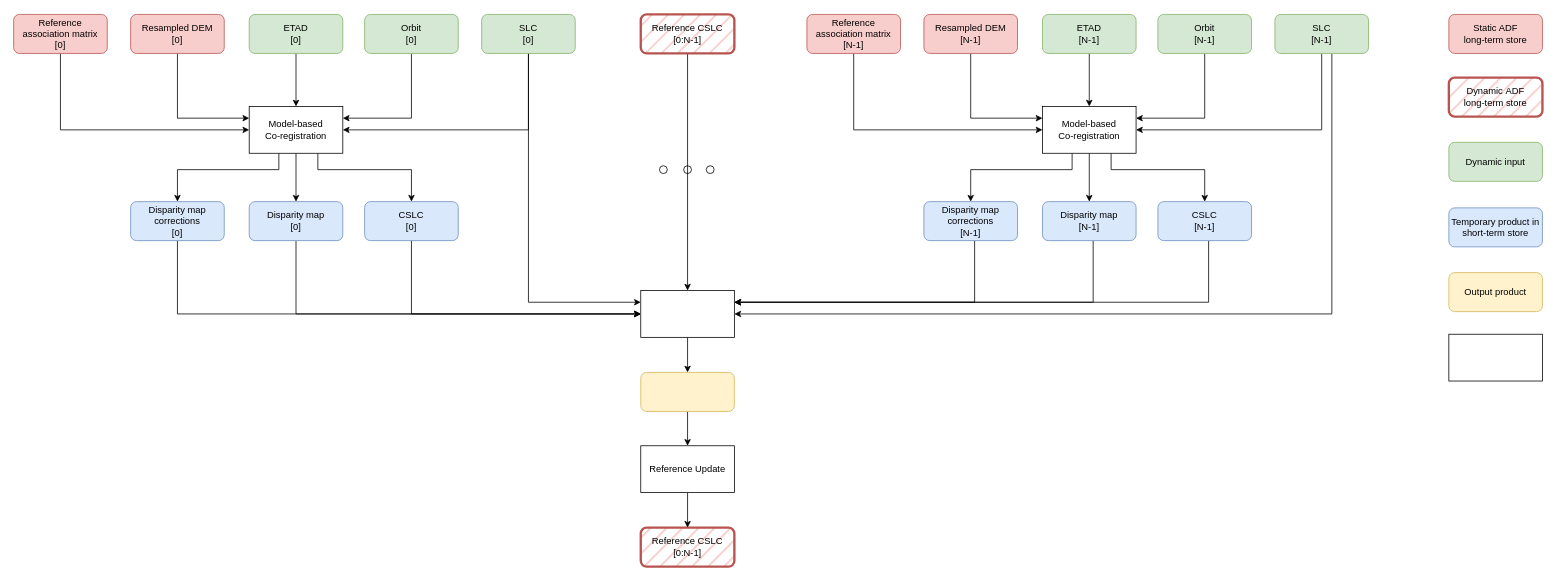
Image size: 1557x581. Some labels were removed from this diagram. The centre of each missing label's shape, as x and y in pixels:
CSLC [0:N-1]: pixel 687 391
Data-driven Co-registration: pixel 687 313
Processing block: pixel 1495 357
